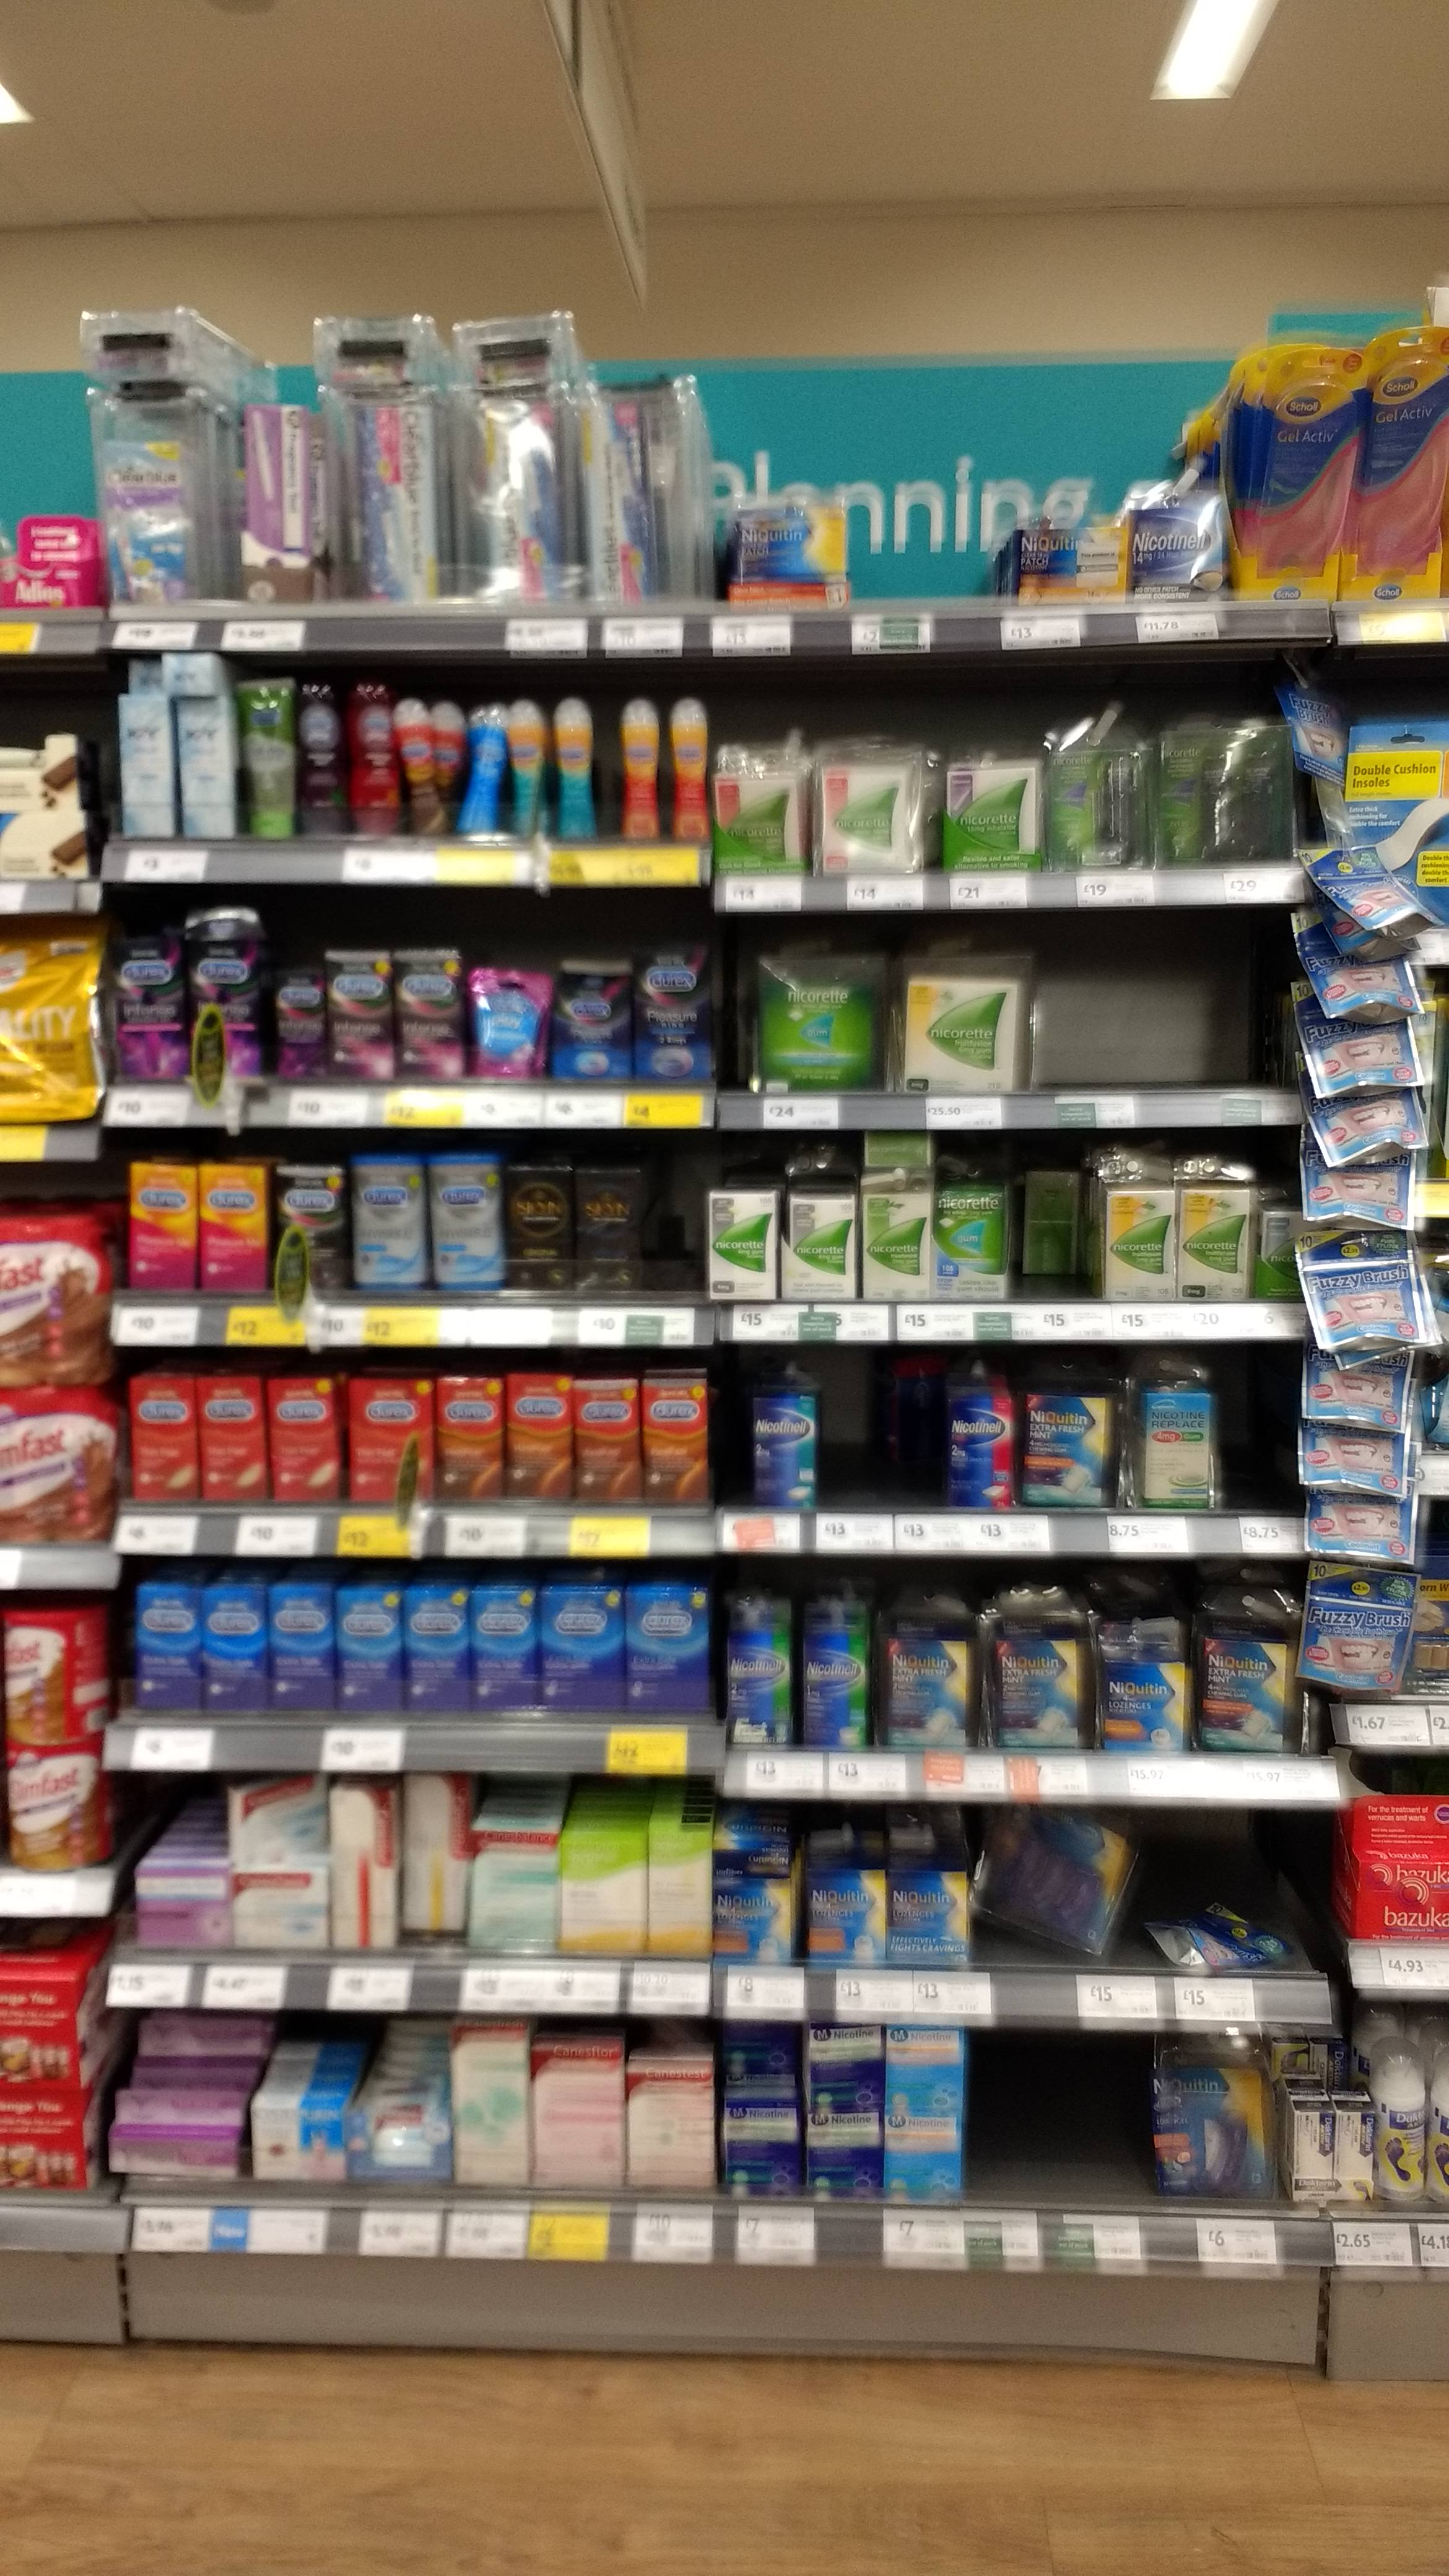Misplacement: (1017, 1131, 1085, 1304)
Out-of-stock: (1046, 908, 1286, 1093)
